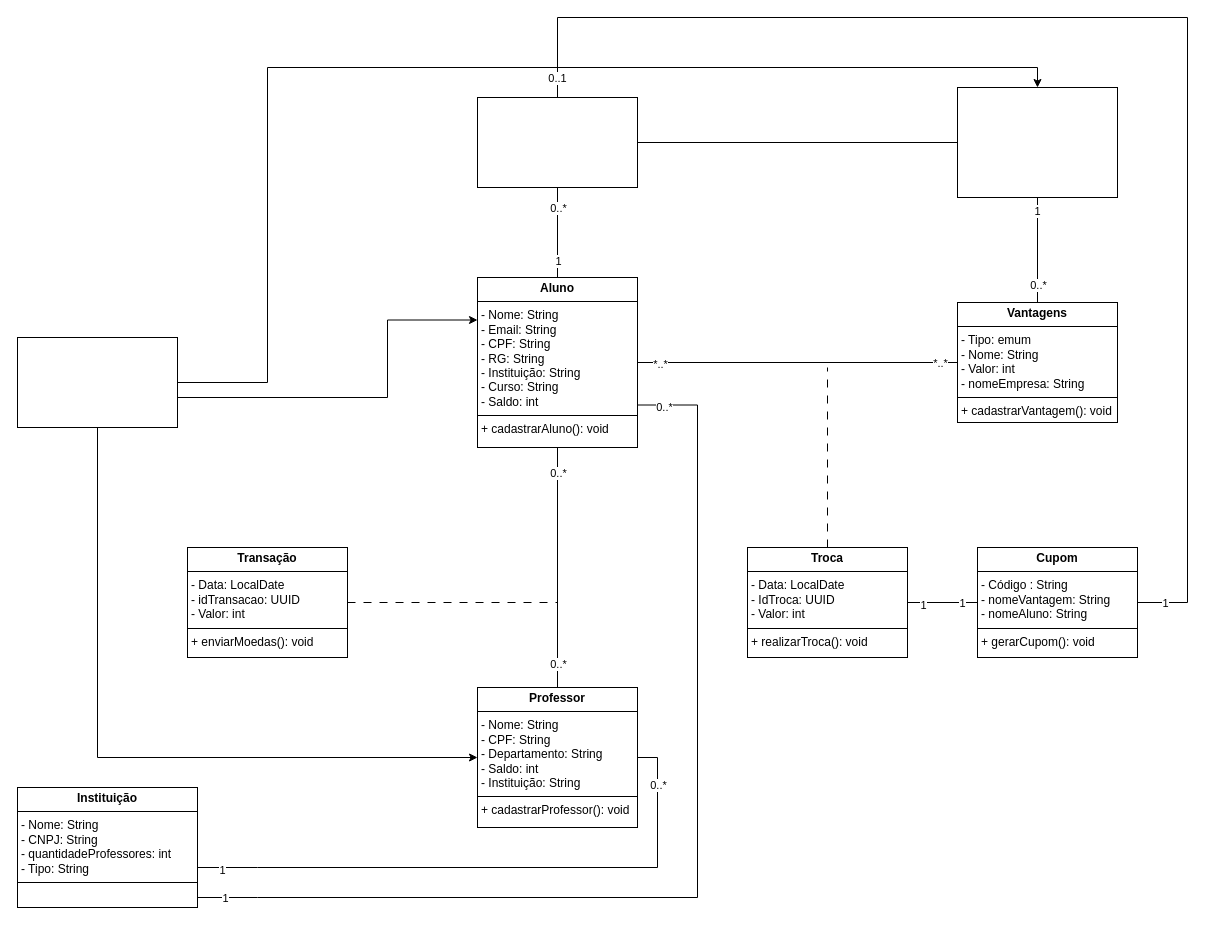
This 1206x925 diagram has some shape labels left out. Here are the shapes that lost their labels. From the top down, the box of each, then its label:
(476, 96, 638, 188): Notificação - Descricao: String - Codigo: String + enviarNotificacao(): void
(956, 86, 1118, 198): Empresa - Nome: String - CNPJ: String - Email: String + cadastrarEmpresa(): void
(16, 336, 178, 428): Usuário - login: String - senha: String + fazerLogin(): void
